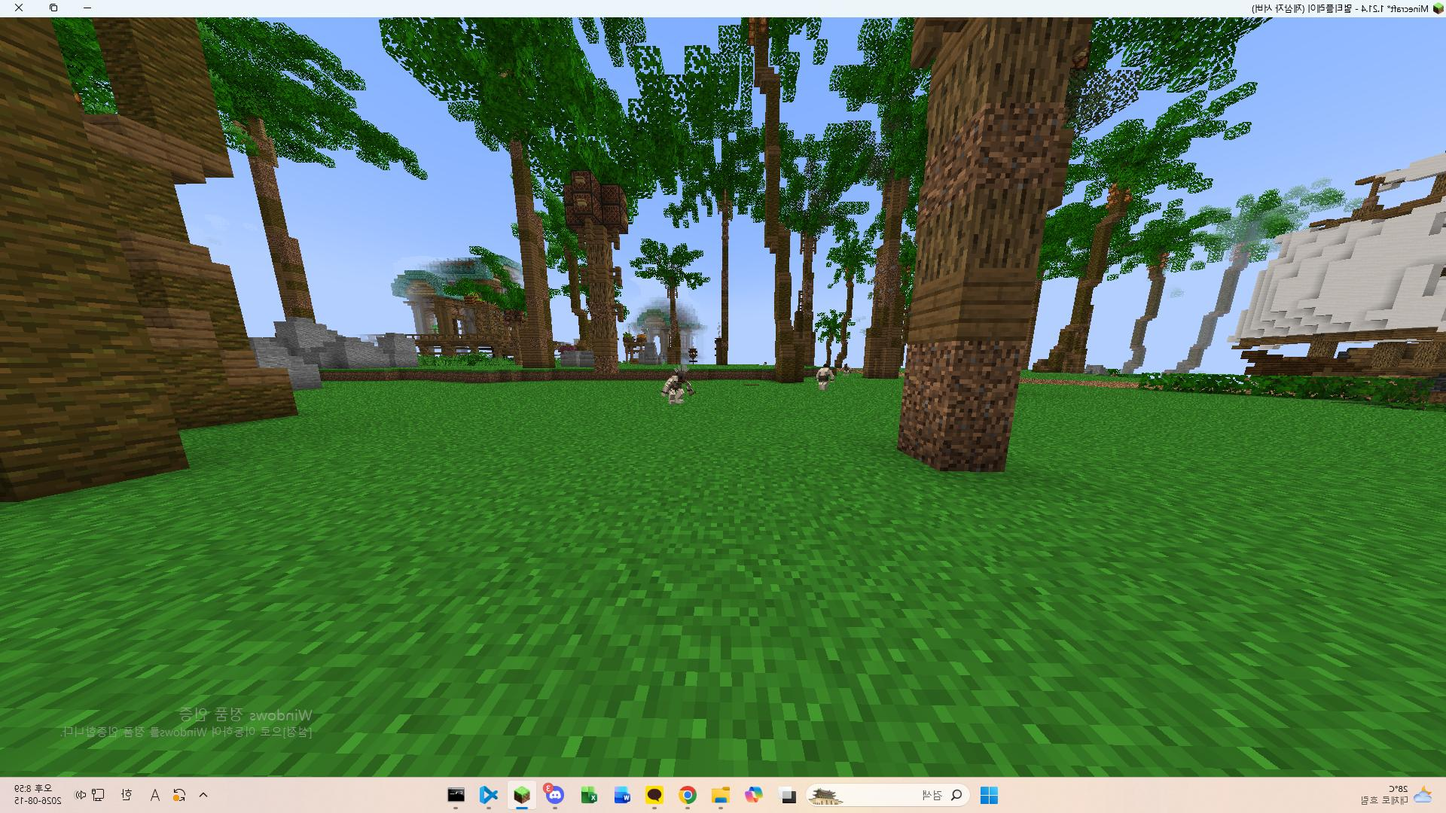bow_indian: (650, 358, 703, 413)
